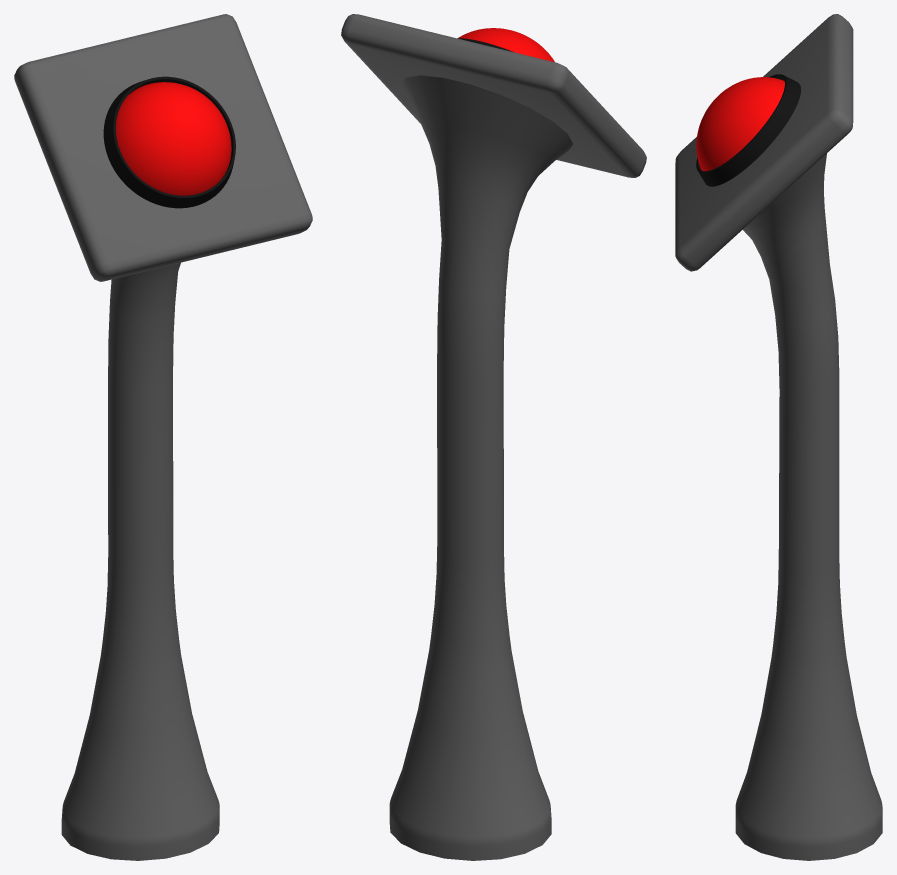
Rendered from DemoButtonPillar.FBX.
3 renders of one model, left to right at view 1: azimuth 30°, elevation 25°; view 2: azimuth 150°, elevation 25°; view 3: azimuth 270°, elevation 25°, orthographic. The views are drawn at different scales.
Visible parts, largest first — view 1: SM_Button; view 2: SM_Button; view 3: SM_Button.
Part boxes in pixels (x1,y1,x2,y2): SM_Button: (14, 14, 312, 860); SM_Button: (341, 14, 646, 860); SM_Button: (675, 14, 882, 860).
Bounding box in the file's own units: 40.14 × 138 × 33.96.
